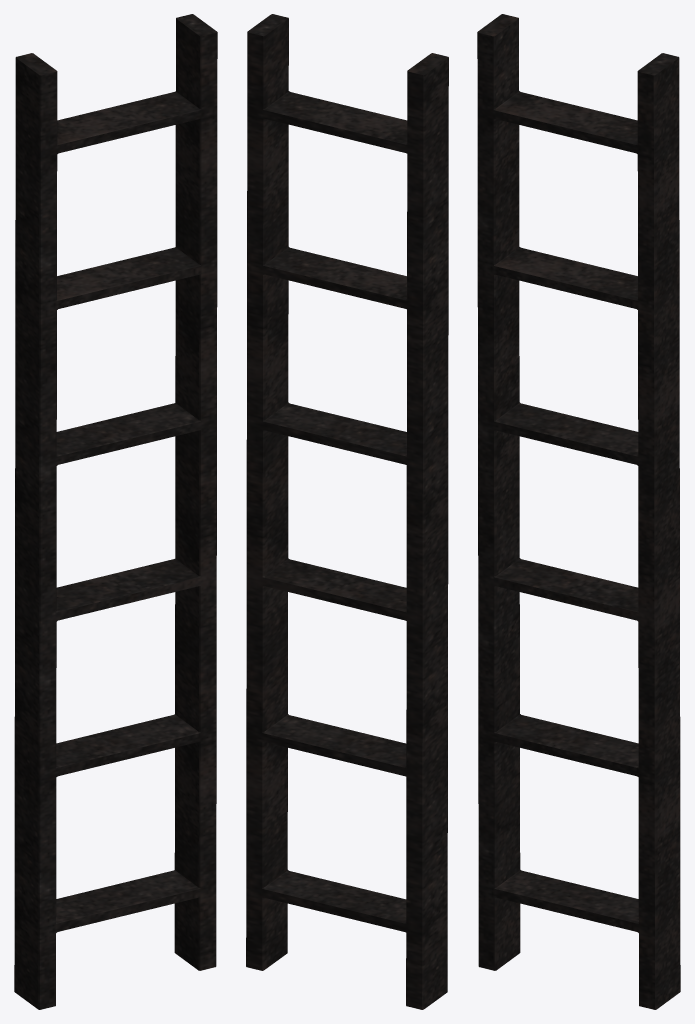
File: escalera.glb
3 views of the same model, side by side, from view 1: azimuth 30°, elevation 25°; view 2: azimuth 150°, elevation 25°; view 3: azimuth 330°, elevation 25° (orthographic).
Visible parts, largest first — view 1: Cube.001; view 2: Cube.001; view 3: Cube.001.
Part boxes in pixels (x1,y1,x2,y2): Cube.001: (14, 14, 217, 1009); Cube.001: (246, 14, 448, 1009); Cube.001: (477, 14, 680, 1009).
Size of the model in its own units: 0.8356 by 4.2 by 0.2162.
1 material, 1 textured.
